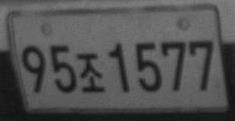1: (105, 43, 134, 92)
5: (50, 44, 77, 93), (136, 42, 162, 92)
7: (188, 40, 215, 90), (162, 41, 186, 90)
9: (20, 45, 47, 92)
조: (78, 52, 105, 93)
